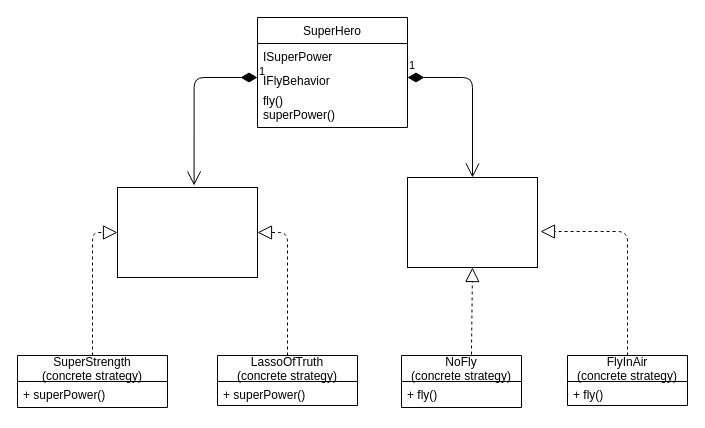
Image size: 705x428. Some labels were removed from this diagram. Each missing label, with the centre of its shape:
"(Strategy) IFlyBehavior + fly()" belongs at point 472,222.
"(Strategy) ISuperPower + superPower()" belongs at point 187,232.
